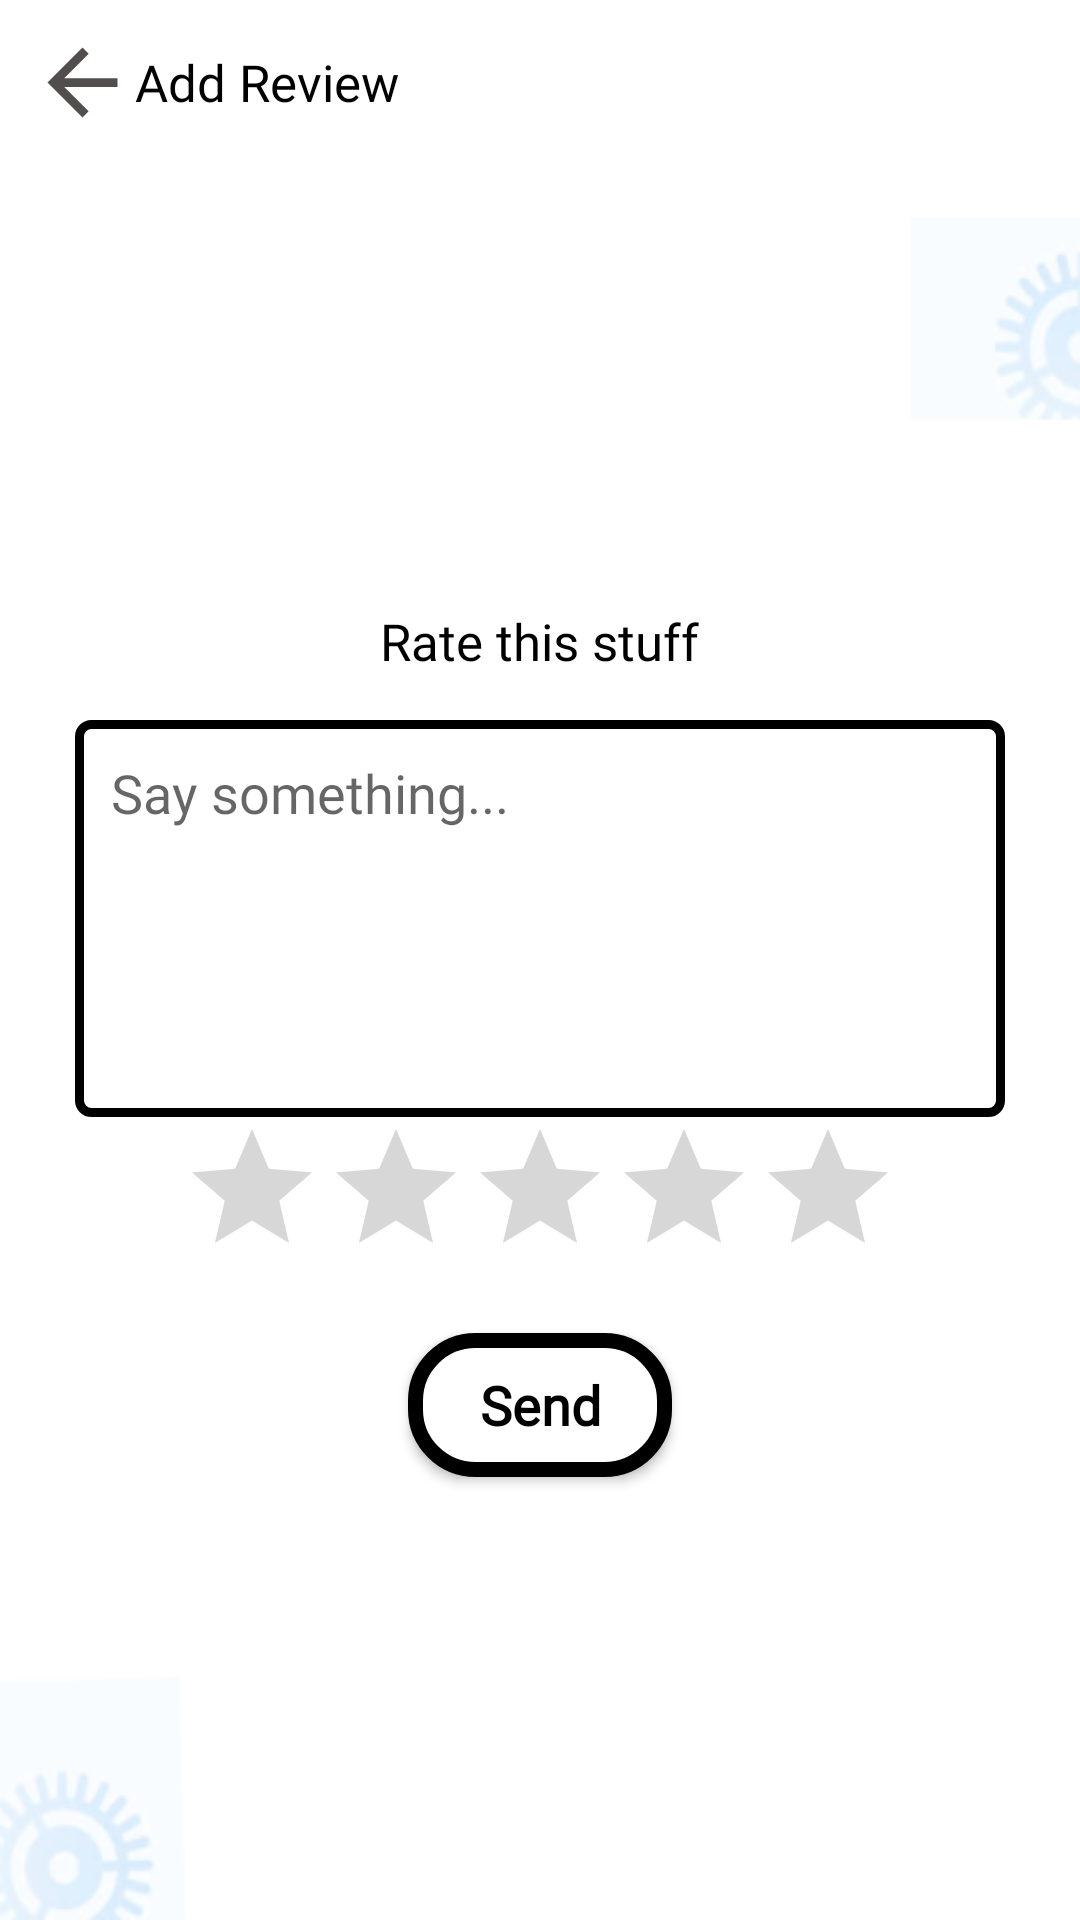

Where to tap for icons on this 1080x1920 app screen, as point (x, y):
arrow back: point (82, 82)
